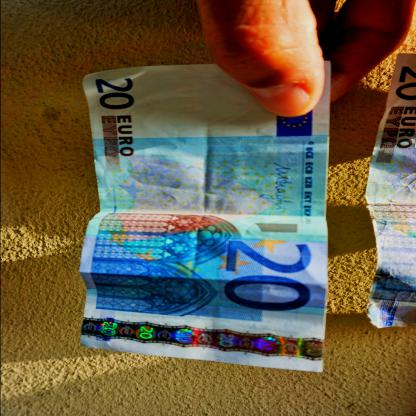euro_banknote: (50, 90, 361, 340)
